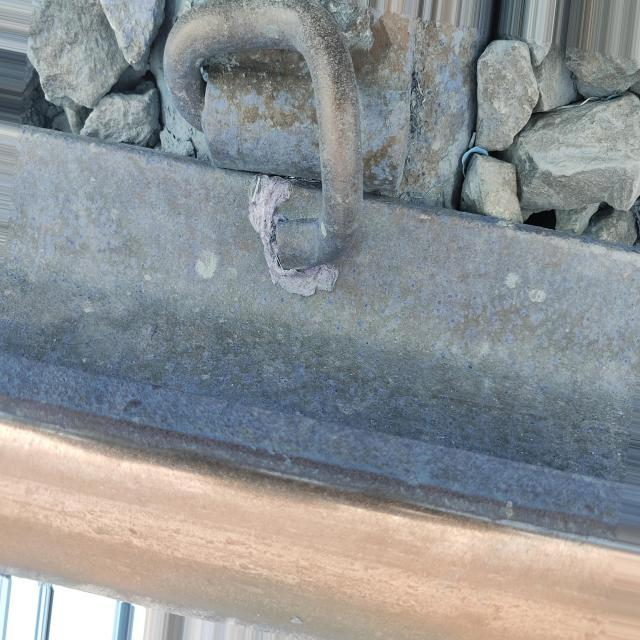Good Fasteners: (151, 0, 415, 312)
